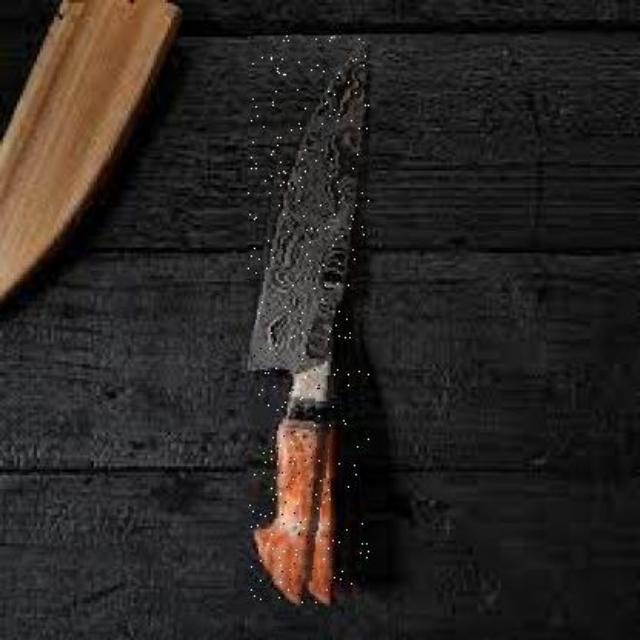Knife: (248, 36, 368, 608)
